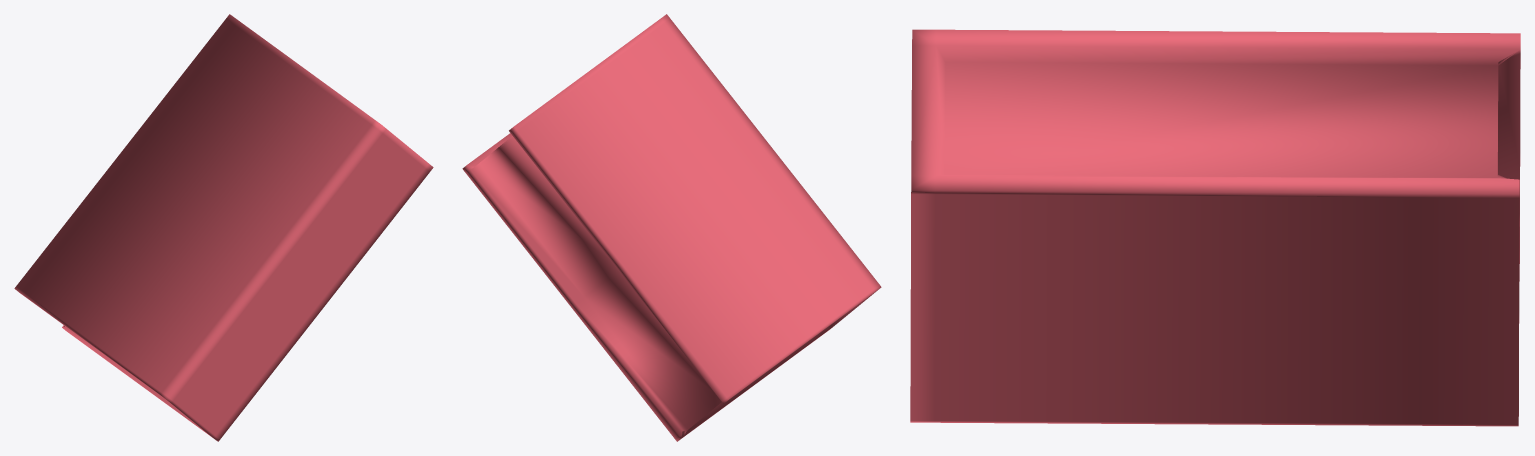
File: K-Book_8.fbx
3 views of the same model, side by side, from view 1: azimuth 30°, elevation 25°; view 2: azimuth 150°, elevation 25°; view 3: azimuth 270°, elevation 25° (orthographic). The views are drawn at different scales.
Visible parts, largest first — view 1: Book.006; view 2: Book.006; view 3: Book.006.
Boxes of the visible parts, bbox=[...] form: Book.006: bbox=[14, 14, 433, 441]; Book.006: bbox=[462, 14, 881, 441]; Book.006: bbox=[910, 29, 1520, 426].
Size of the model in its own units: 33.36 by 33.08 by 32.97.
